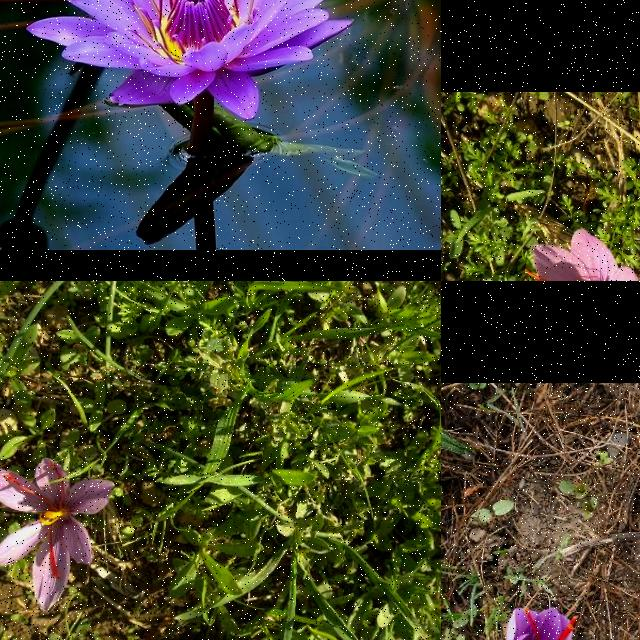flower: (0, 459, 114, 611), (505, 228, 640, 281), (506, 606, 578, 640)
